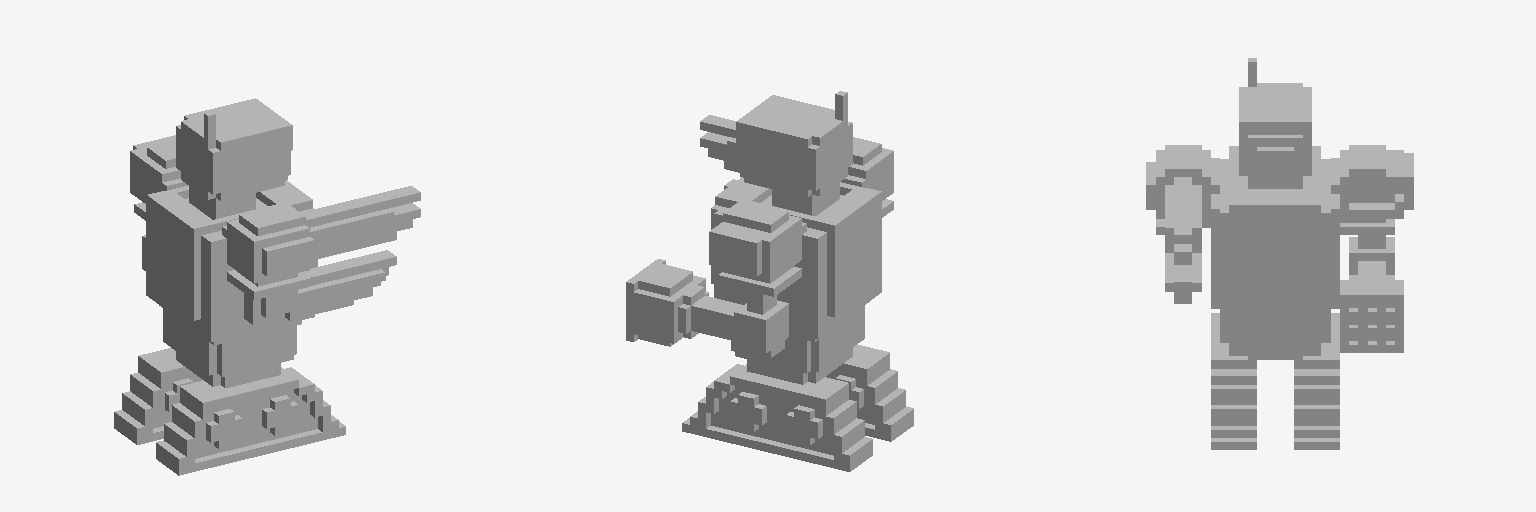
Rendered from robot.obj.
3 renders of one model, left to right at view 1: azimuth 30°, elevation 25°; view 2: azimuth 150°, elevation 25°; view 3: azimuth 270°, elevation 25°, orthographic.
Size of the model in its own units: 28 by 40 by 29.